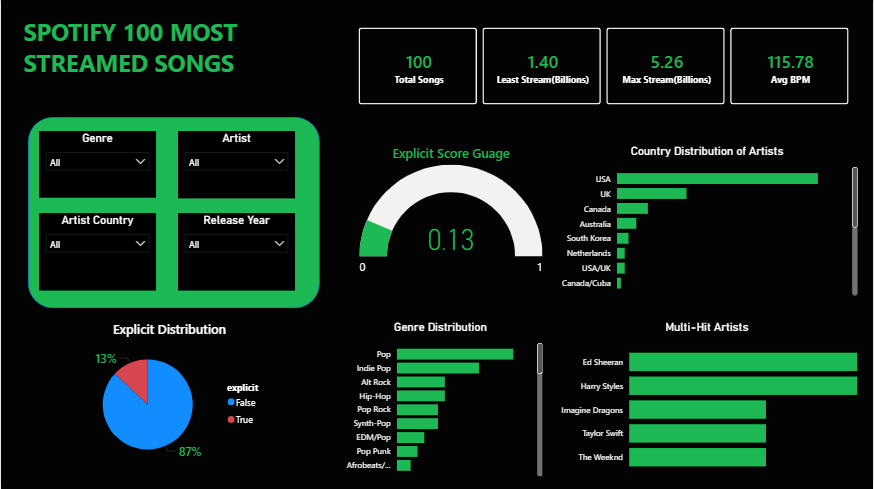

The page's visual inventory and layout, read from the dashboard file:
{"tool":"powerbi","page":{"name":"Main Page","canvas":[1280,720],"ordinal":0},"visuals":[{"type":"cardVisual","fields":{"Data":["spotify_alltime_top100_songs.Total Songs","Min(spotify_alltime_top100_songs.total_streams_billions)","Max(spotify_alltime_top100_songs.total_streams_billions)","Avg(spotify_alltime_top100_songs.bpm)"]},"box":[507.9,23.9,755.9,147.9],"z":0},{"type":"gauge","title":"Explicit Score Guage","fields":{"MinValue":["Min(spotify_alltime_top100_songs.Explicit Score)"],"MaxValue":["Max(spotify_alltime_top100_songs.Explicit Score)"],"Y":["Avg(spotify_alltime_top100_songs.Explicit Score)"]},"box":[521.6,211.6,279.2,201.3],"z":1000},{"type":"clusteredBarChart","title":"Genre Distribution ","fields":{"Category":["spotify_alltime_top100_songs.primary_genre"],"Y":["spotify_alltime_top100_songs.Total Songs"]},"box":[490.8,470.2,310,235.1],"z":1001},{"type":"clusteredBarChart","title":"Multi-Hit Artists","fields":{"Category":["spotify_alltime_top100_songs.artist"],"Y":["spotify_alltime_top100_songs.Total Songs"]},"box":[811.3,470.3,451.9,235.2],"z":1002},{"type":"clusteredBarChart","title":"Country Distribution of Artists","fields":{"Category":["spotify_alltime_top100_songs.artist_country"],"Y":["CountNonNull(spotify_alltime_top100_songs.artist)"]},"box":[811.1,211.6,452.6,227.8],"z":1003},{"type":"pieChart","title":"Explicit Distribution","fields":{"Category":["spotify_alltime_top100_songs.explicit"],"Y":["spotify_alltime_top100_songs.Total Songs"]},"box":[94,470.2,307.1,223.3],"z":1004},{"type":"textbox","title":"SPOTIFY 100 MOST STREAMED SONGS","box":[28.4,23.9,440.7,122.5],"z":1005},{"type":"shape","box":[40.3,171.8,428.7,280.8],"z":1006},{"type":"slicer","title":"Genre","fields":{"Values":["spotify_alltime_top100_songs.primary_genre"]},"box":[55.8,192.5,171.9,98.4],"z":1007},{"type":"slicer","title":"Artist","fields":{"Values":["spotify_alltime_top100_songs.artist"]},"box":[259.9,192.7,171.8,98.6],"z":1008},{"type":"slicer","title":"Artist Country","fields":{"Values":["spotify_alltime_top100_songs.artist_country"]},"box":[55.3,313.7,171.8,113.5],"z":1009},{"type":"slicer","title":"Release Year","fields":{"Values":["spotify_alltime_top100_songs.release_year"]},"box":[259.9,313.7,171.8,113.5],"z":1010}]}

Visuals, with their boxes in screenshot pixels (x1, y1, x2, y2), scaled from the page's 1280x720 canvas onto the 874x489 screenshot:
cardVisual - spotify_alltime_top100_songs.Total Songs x Min(spotify_alltime_top100_songs.total_streams_billions): box=[347, 16, 863, 117]
"Explicit Score Guage" gauge: box=[356, 144, 547, 280]
"Genre Distribution " clusteredBarChart: box=[335, 319, 547, 479]
"Multi-Hit Artists" clusteredBarChart: box=[554, 319, 863, 479]
"Country Distribution of Artists" clusteredBarChart: box=[554, 144, 863, 298]
"Explicit Distribution" pieChart: box=[64, 319, 274, 471]
"SPOTIFY 100 MOST STREAMED SONGS" textbox: box=[19, 16, 320, 99]
shape: box=[28, 117, 320, 307]
"Genre" slicer: box=[38, 131, 155, 198]
"Artist" slicer: box=[177, 131, 295, 198]
"Artist Country" slicer: box=[38, 213, 155, 290]
"Release Year" slicer: box=[177, 213, 295, 290]
